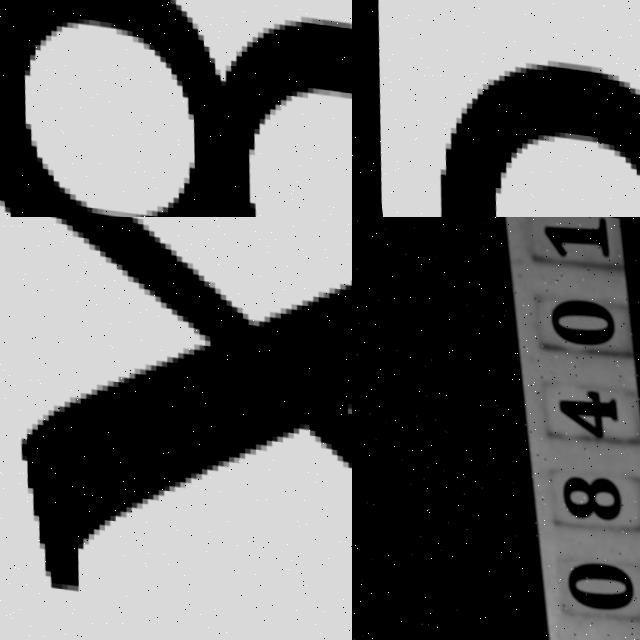0: (527, 537, 640, 636), (523, 278, 632, 368)
1: (516, 217, 626, 283)
3: (393, 25, 640, 217)
4: (521, 365, 639, 461)
8: (0, 0, 352, 217), (526, 455, 637, 543)
X: (0, 217, 352, 640)
